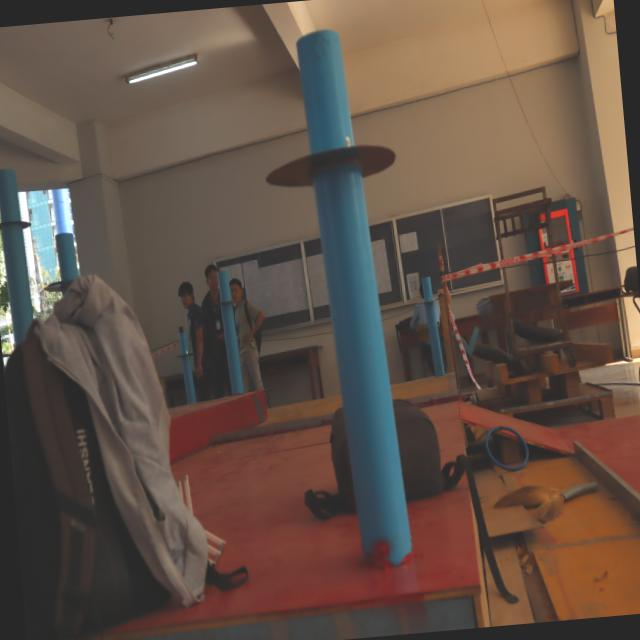pole: (247, 21, 413, 315), (208, 266, 246, 338), (411, 272, 444, 329), (176, 330, 198, 376)
